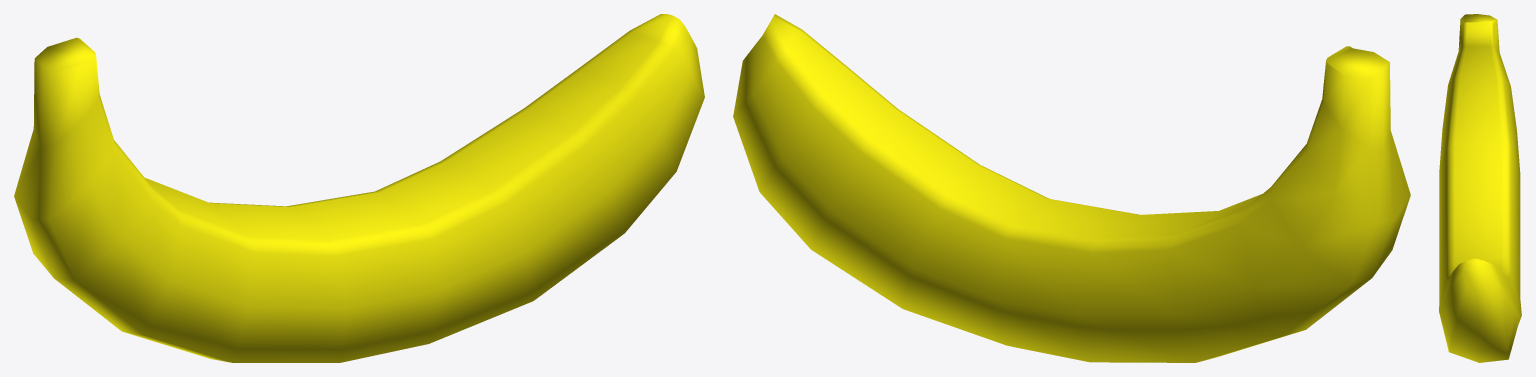
Rendered from Banana_Exp.fbx.
The picture shows the model from 3 angles, left to right: view 1: azimuth 30°, elevation 25°; view 2: azimuth 150°, elevation 25°; view 3: azimuth 270°, elevation 25°; orthographic projection. The views are drawn at different scales.
Visible parts, largest first — view 1: Banana; view 2: Banana; view 3: Banana.
Boxes of the visible parts, x1,y1,x2,y2 form: Banana: (14,14,704,362); Banana: (733,14,1410,362); Banana: (1439,14,1521,362).
Bounding box in the file's own units: 53.04 × 28.65 × 9.58.
